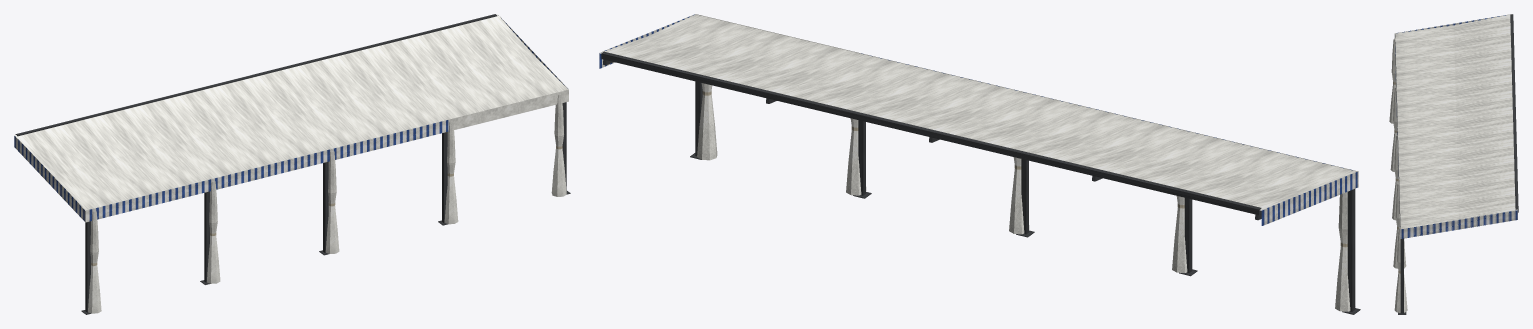
File: SM_Molo_DehorsRighe.fbx
3 renders of one model, left to right at view 1: azimuth 30°, elevation 25°; view 2: azimuth 150°, elevation 25°; view 3: azimuth 270°, elevation 25°, orthographic. The views are drawn at different scales.
Parts seen in each view (by area): view 1: SM_Molo_DehorsRighe; view 2: SM_Molo_DehorsRighe; view 3: SM_Molo_DehorsRighe.
Boxes of the visible parts, <box> form: SM_Molo_DehorsRighe: <box>14,14,570,314</box>; SM_Molo_DehorsRighe: <box>599,14,1360,314</box>; SM_Molo_DehorsRighe: <box>1389,14,1518,314</box>.
Size of what is drawn, in the model's own units: 1222 by 339 by 304.
Materials: 2 (2 with a texture image).
